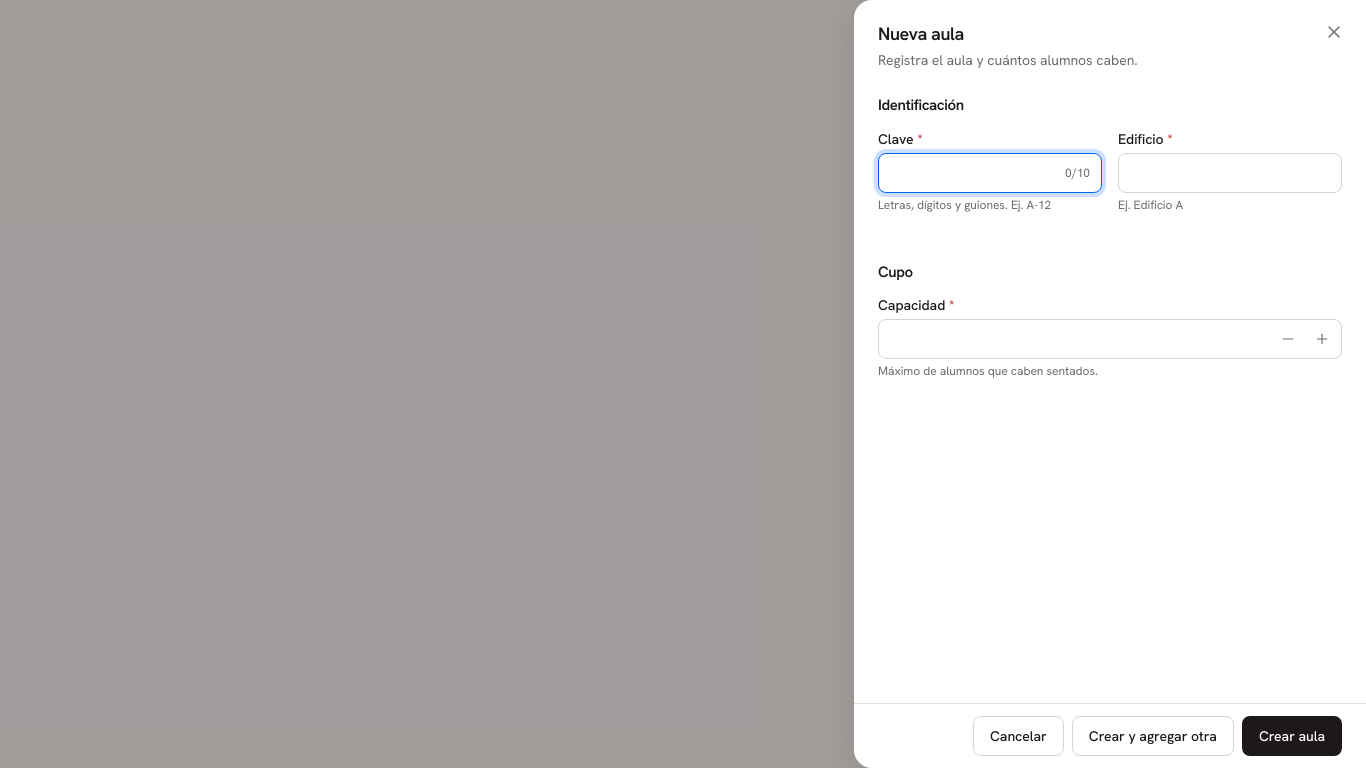
Test: AulaForm: alta en panel lateral › los botones «−» y «+» ajustan la capacidad dentro de 1 a 1000
Click the button named "Aumentar capacidad" at (1322, 339), box [1306,323,1338,355]
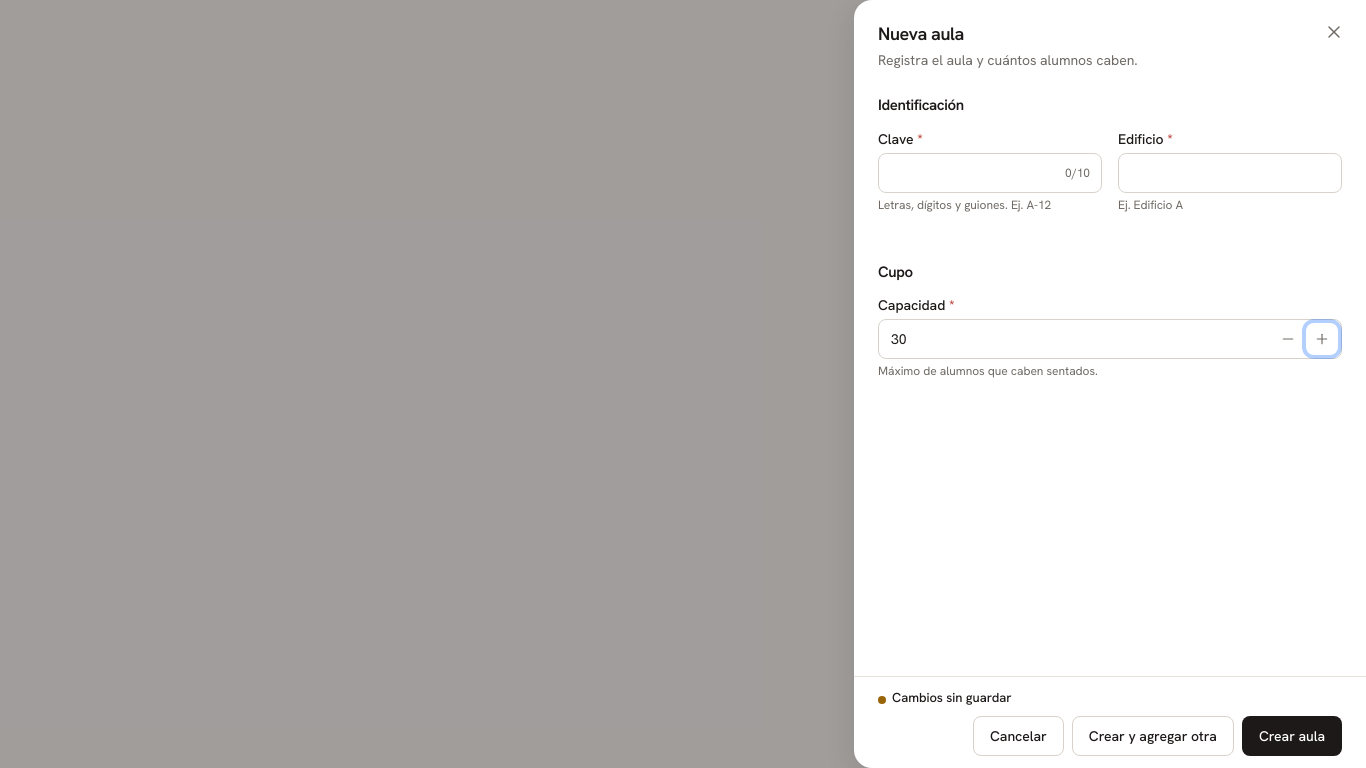
Check: the field labelled "Capacidad *" holds "30", box [878,319,1342,359]
Click the button named "Disminuir capacidad" at (1288, 339), box [1272,323,1304,355]
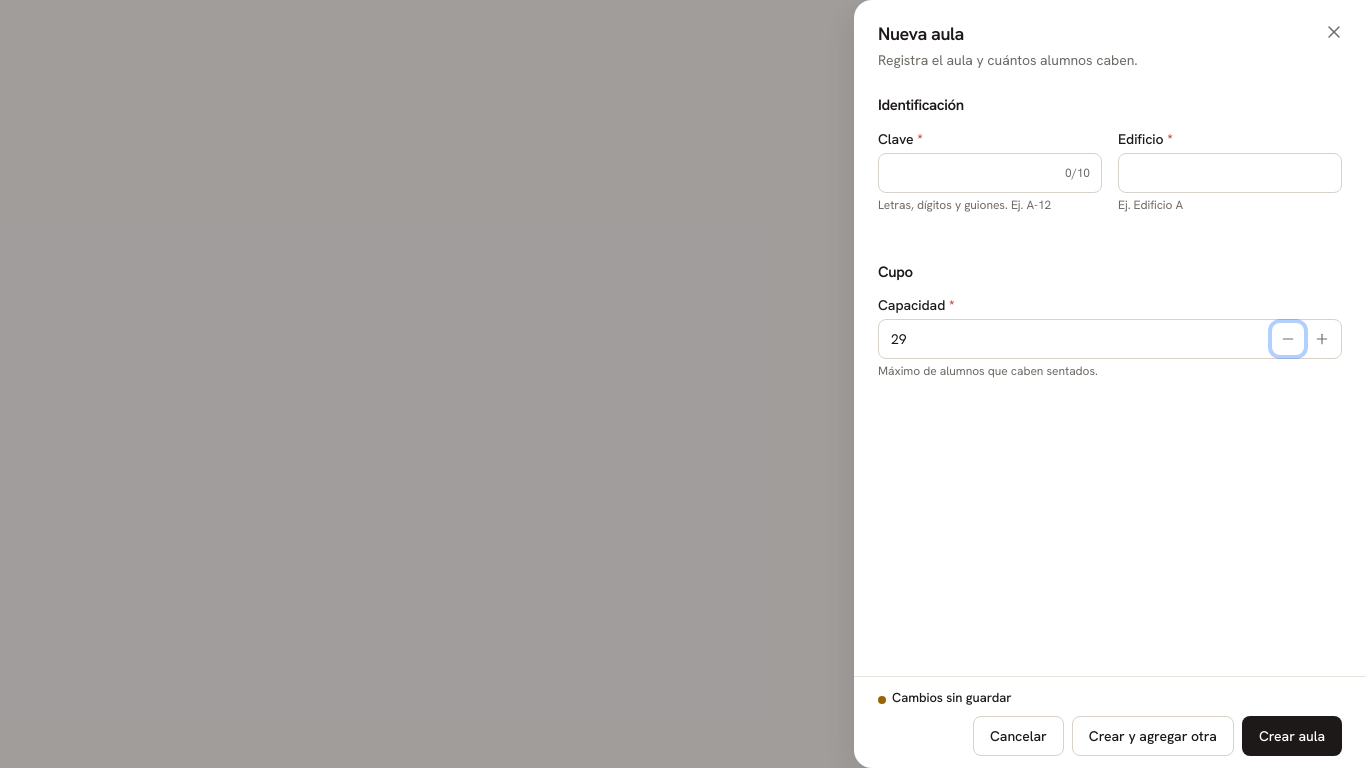
Check: the field labelled "Capacidad *" holds "29"
Replace the text in the field labelled "Capacidad *" with "1a2" at (1110, 339), box [878,319,1342,359]
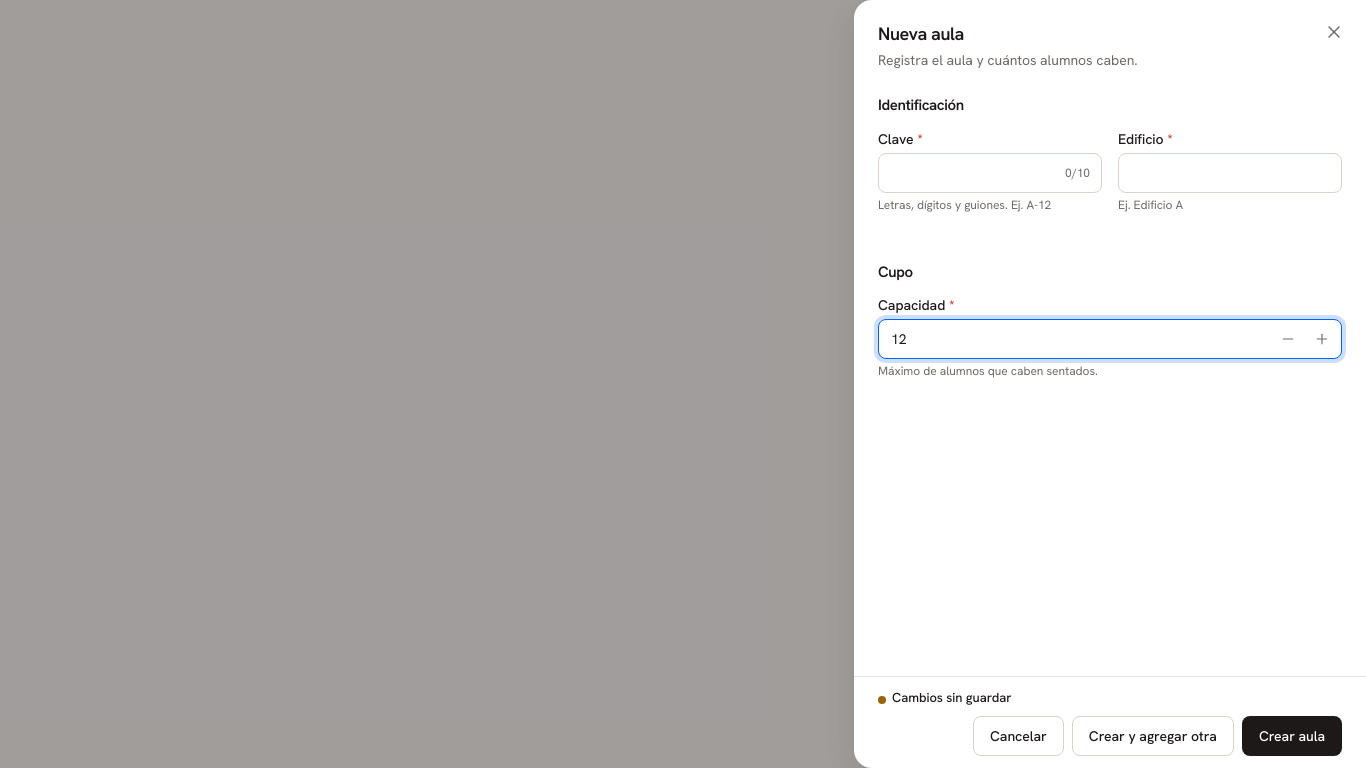
Check: the field labelled "Capacidad *" holds "12", box [878,319,1342,359]
